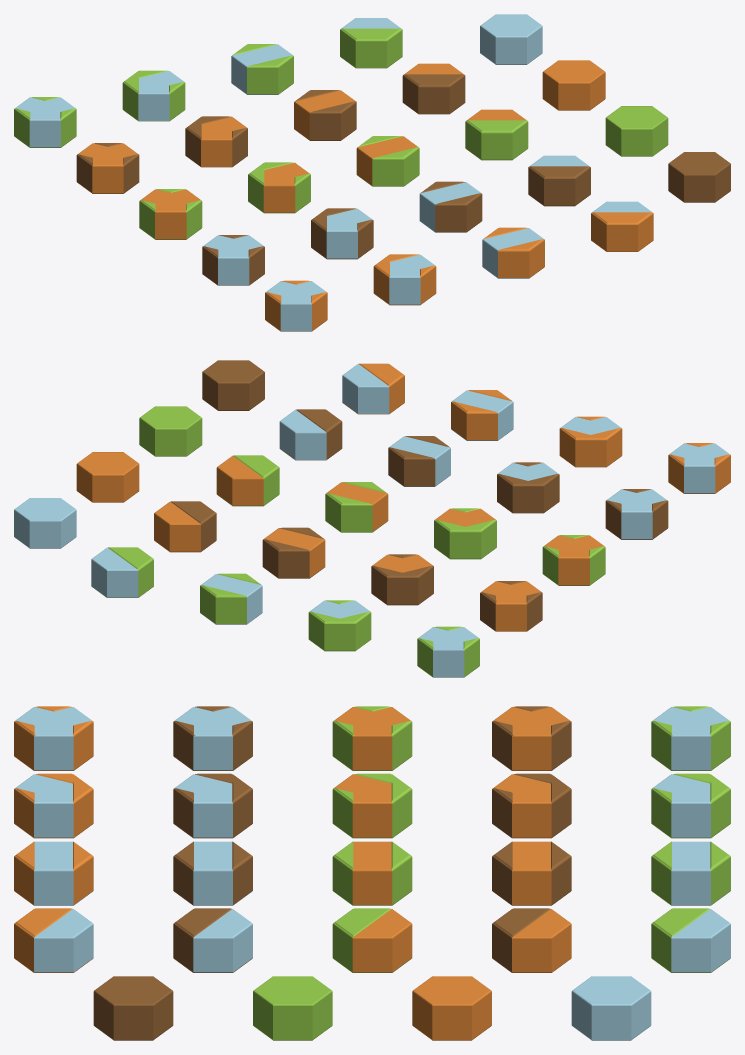
File: MapTiles.glb
3 views of the same model, one above another, from view 1: azimuth 30°, elevation 25°; view 2: azimuth 150°, elevation 25°; view 3: azimuth 270°, elevation 25° (orthographic). The views are drawn at different scales.
Parts seen in each view (by area): view 1: DirtRiverTurn, DirtHalf, GrassHalf, RiverTurn, DarkDirtRiverLine, DirtTurn, GrassTurn, DarkDirtRiverTurn, DirtRiverLine, DarkDirtRiverHalf, GrassLine, GrassY (+12 smaller); view 2: RiverTurn, DarkDirtRiverHalf, GrassHalf, DirtRiverTurn, DirtLine, DarkDirtRiverTurn, GrassTurn, DirtTurn, DirtRiverHalf, RiverLine, DirtHalf, GrassLine (+12 smaller); view 3: GrassTurn, RiverBlock, DarkDirtBlock, RiverTurn, DirtTurn, DirtRiverTurn, DarkDirtRiverTurn, GrassLine, GrassY, GrassHalf, RiverLine, DirtLine (+12 smaller).
Boxes of the visible parts, <box> form: DirtRiverTurn: <box>373,254,436,305</box>; DirtHalf: <box>402,63,465,114</box>; GrassHalf: <box>465,109,528,160</box>; RiverTurn: <box>122,70,185,121</box>; DarkDirtRiverLine: <box>419,181,482,232</box>; DirtTurn: <box>185,116,247,167</box>; GrassTurn: <box>248,162,310,213</box>; DarkDirtRiverTurn: <box>311,208,373,259</box>; DirtRiverLine: <box>482,227,544,278</box>; DarkDirtRiverHalf: <box>528,155,590,206</box>; GrassLine: <box>356,136,419,186</box>; GrassY: <box>139,189,202,239</box>; RiverTurn: <box>308,600,371,651</box>; DarkDirtRiverHalf: <box>279,409,342,460</box>; GrassHalf: <box>216,455,279,506</box>; DirtRiverTurn: <box>559,416,622,467</box>; DirtLine: <box>262,527,325,578</box>; DarkDirtRiverTurn: <box>497,462,559,513</box>; GrassTurn: <box>434,508,496,559</box>; DirtTurn: <box>371,554,433,605</box>; DirtRiverHalf: <box>342,363,404,414</box>; RiverLine: <box>200,573,262,624</box>; DirtHalf: <box>154,501,216,552</box>; GrassLine: <box>325,482,388,532</box>; GrassTurn: <box>332,773,412,838</box>; RiverBlock: <box>571,976,651,1040</box>; DarkDirtBlock: <box>93,976,173,1040</box>; RiverTurn: <box>651,773,730,838</box>; DirtTurn: <box>492,773,571,838</box>; DirtRiverTurn: <box>14,773,93,838</box>; DarkDirtRiverTurn: <box>173,773,252,838</box>; GrassLine: <box>332,841,412,905</box>; GrassY: <box>332,706,412,770</box>; GrassHalf: <box>332,908,412,972</box>; RiverLine: <box>651,841,730,905</box>; DirtLine: <box>492,841,571,905</box>.
Bounding box in the file's own units: 17.73 × 1.03 × 18.
